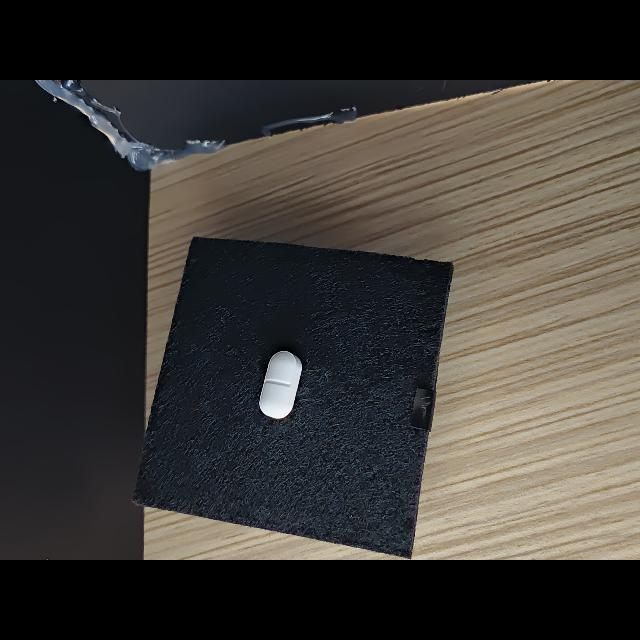Intact Pill: (259, 351, 302, 418)
